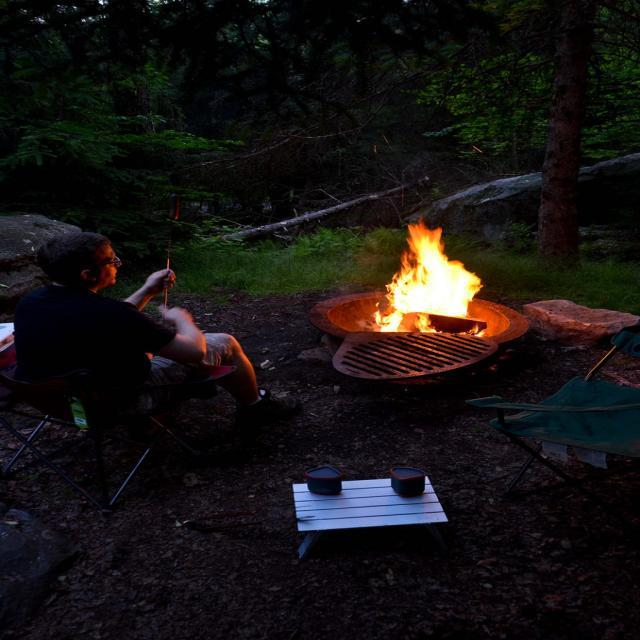Fire: (394, 268, 477, 312)
